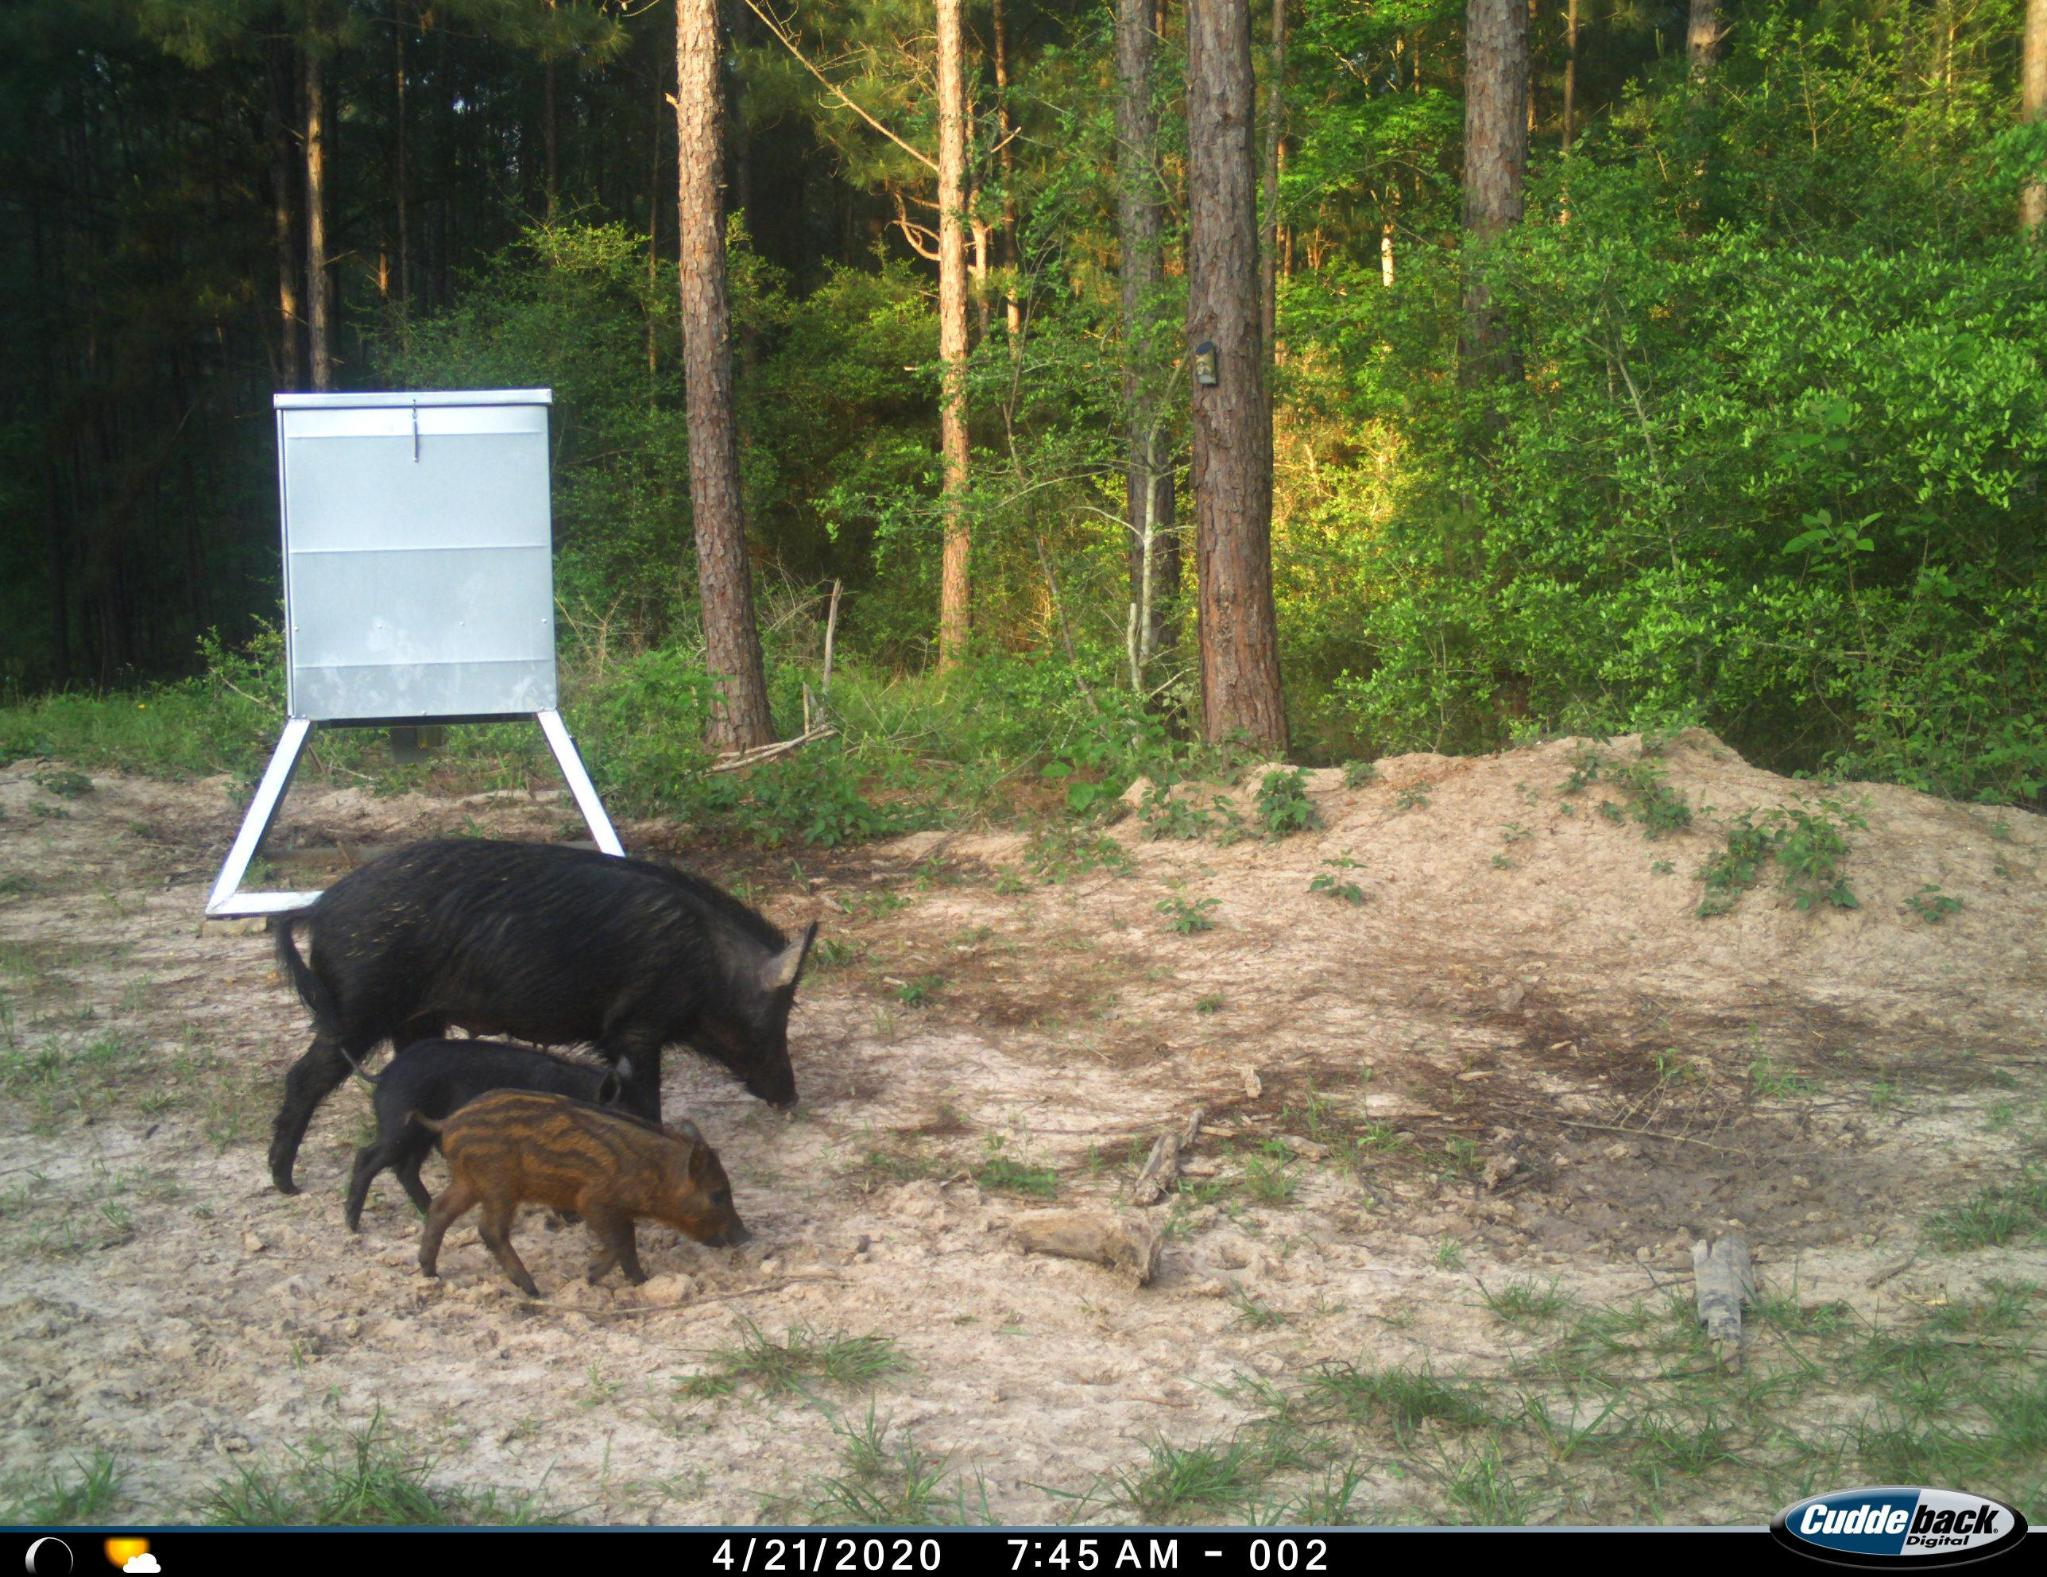Hog: (252, 833, 841, 1209), (424, 1090, 759, 1300), (336, 1037, 643, 1209)
